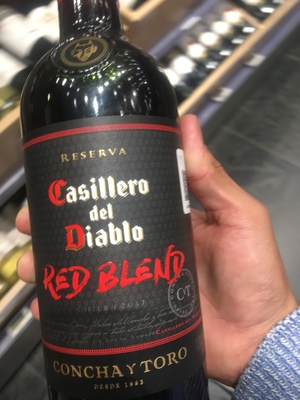casillero del diablo red blend: (25, 9, 202, 400)
